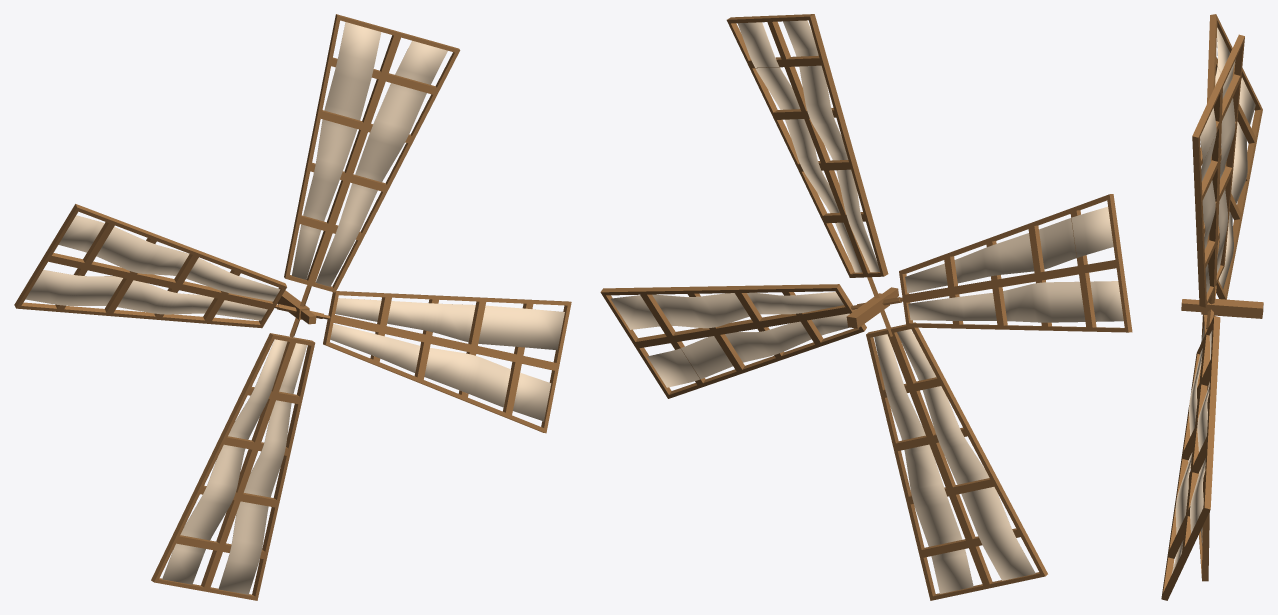
The model's file is Pales.fbx.
The picture shows the model from 3 angles, left to right: view 1: azimuth 30°, elevation 25°; view 2: azimuth 150°, elevation 25°; view 3: azimuth 270°, elevation 25°; orthographic projection. The views are drawn at different scales.
Visible parts, largest first — view 1: Cube.040; view 2: Cube.040; view 3: Cube.040.
Part boxes in pixels (left/top/right/bottom): Cube.040: left=14, top=14, right=571, bottom=600; Cube.040: left=600, top=14, right=1132, bottom=600; Cube.040: left=1161, top=14, right=1263, bottom=600.
Size of the model in its own units: 1440 by 220 by 1422.
